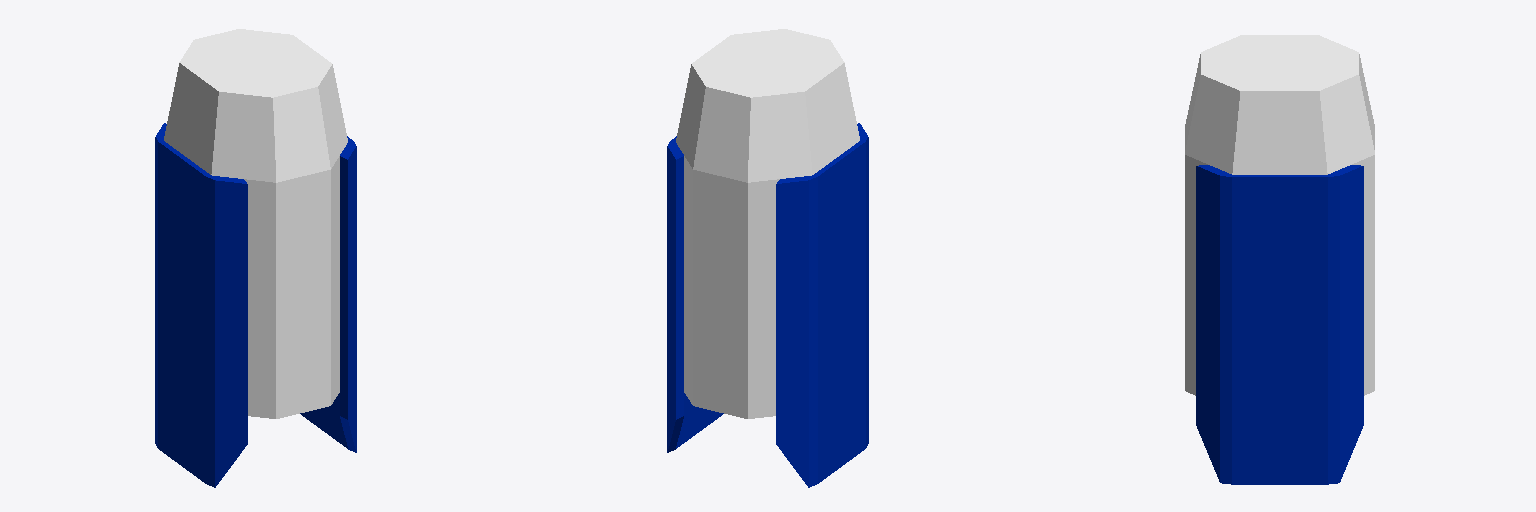
The model's file is friendlyRangedUnitPillar.obj.
3 renders of one model, left to right at view 1: azimuth 30°, elevation 25°; view 2: azimuth 150°, elevation 25°; view 3: azimuth 270°, elevation 25°, orthographic.
Size of the model in its own units: 0.2 by 0.5 by 0.2242.